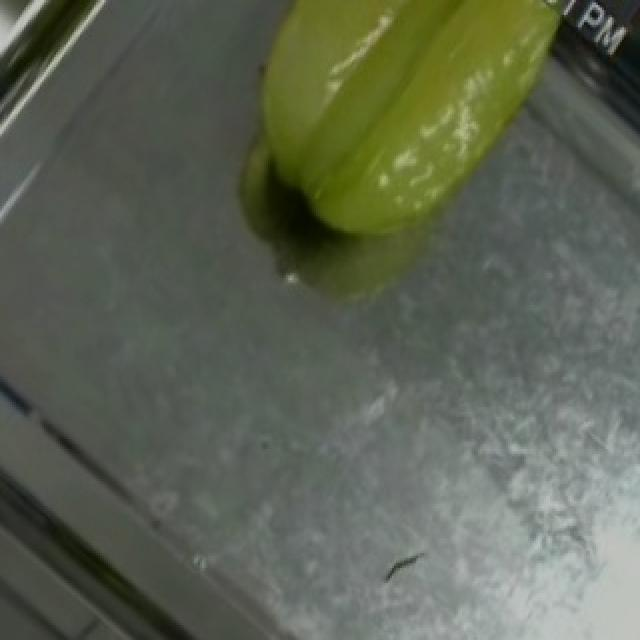fruit: (216, 2, 598, 276)
